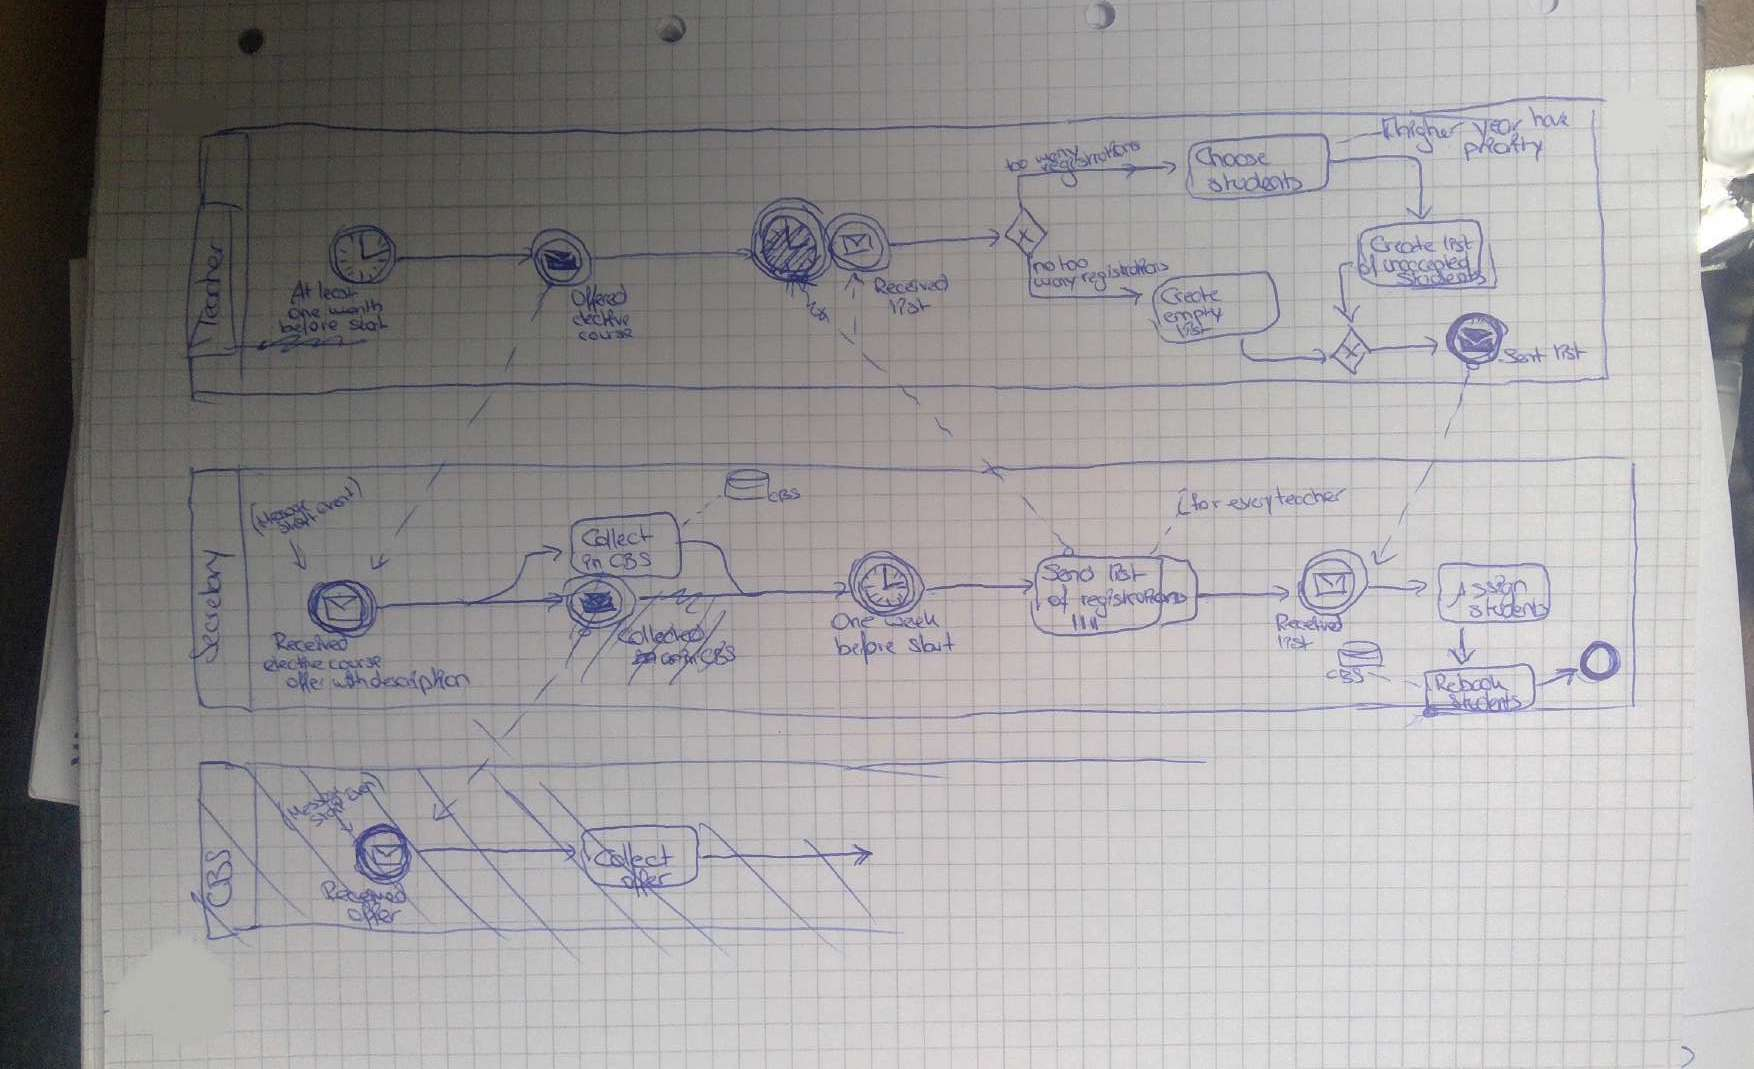Assign: (1448, 575, 1532, 607)
Atleast: (286, 278, 361, 307)
CBS: (606, 548, 654, 572), (1322, 667, 1370, 685), (763, 487, 800, 505)
Choose: (1193, 144, 1272, 171)
Collect: (579, 523, 655, 552)
Create: (1368, 232, 1440, 257), (1156, 285, 1223, 308)
III: (1067, 611, 1104, 631)
Message: (252, 497, 312, 526)
Offered: (567, 280, 632, 313)
One: (828, 611, 879, 632)
Rebook: (1432, 671, 1512, 695)
Received: (271, 628, 353, 653), (870, 275, 954, 296), (1272, 614, 1347, 634)
Secretary: (186, 546, 237, 662)
Send: (1040, 561, 1100, 586)
Sent: (1504, 345, 1545, 368)
Students: (1444, 691, 1525, 714)
Teacher: (192, 233, 226, 332)
before: (831, 629, 900, 670), (272, 319, 343, 341)
course: (324, 655, 385, 674), (575, 328, 640, 343)
description: (366, 668, 474, 697)
elective: (569, 308, 636, 329), (259, 654, 327, 675)
empty: (1160, 308, 1228, 330)
event: (307, 503, 358, 524)
every: (1227, 491, 1278, 514)
for: (1188, 491, 1226, 514)
have: (1525, 106, 1572, 130)
higher: (1390, 113, 1466, 159)
in: (579, 552, 607, 573)
list: (884, 294, 934, 317), (1437, 231, 1479, 254), (1105, 561, 1149, 584), (1548, 341, 1588, 363), (1272, 635, 1318, 654), (1172, 323, 1213, 343)
many: (1029, 152, 1085, 172), (1033, 274, 1081, 291)
month: (323, 298, 390, 318)
no: (1030, 257, 1060, 275)
of: (1045, 584, 1074, 614), (1358, 251, 1380, 279)
offer: (284, 668, 329, 696)
one: (284, 303, 326, 323)
priority: (1459, 135, 1546, 162)
registrations: (1079, 586, 1190, 620), (1037, 164, 1147, 196), (1075, 264, 1172, 296)
start: (904, 631, 959, 656), (273, 511, 322, 533), (346, 315, 394, 335)
students: (1206, 168, 1308, 193), (1393, 268, 1491, 289), (1468, 597, 1554, 620)
teacher: (1273, 486, 1350, 508)
too: (1052, 253, 1091, 273), (1001, 157, 1029, 177)
unaccepted: (1381, 251, 1474, 276)
week: (882, 611, 944, 630)
with: (329, 667, 372, 693)
year: (1473, 114, 1527, 144)
